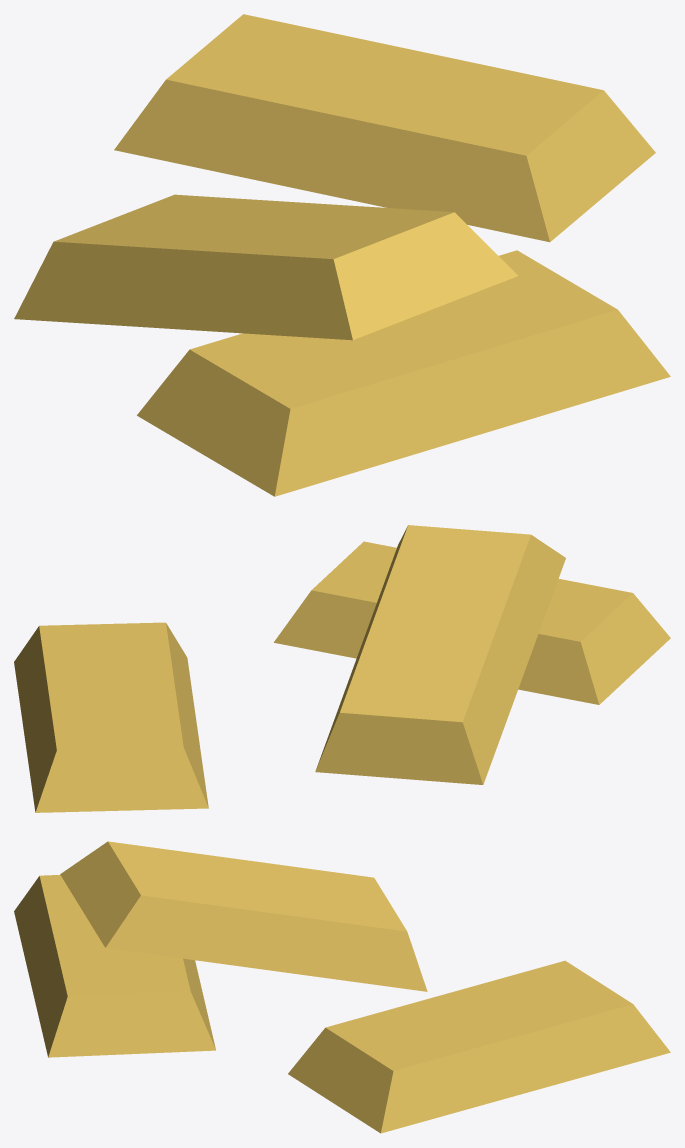
Rendered from gold_treasure_v4.gltf.
3 views of the same model, one above another, from view 1: azimuth 30°, elevation 25°; view 2: azimuth 150°, elevation 25°; view 3: azimuth 270°, elevation 25° (orthographic). The views are drawn at different scales.
Visible parts, largest first — view 1: GoldTreasureV4; view 2: GoldTreasureV4; view 3: GoldTreasureV4.
Boxes of the visible parts, x1=… form: GoldTreasureV4: x1=14, y1=14, x2=670, y2=496; GoldTreasureV4: x1=14, y1=525, x2=670, y2=812; GoldTreasureV4: x1=14, y1=841, x2=670, y2=1133.
Bounding box in the file's own units: 2.43 × 0.6233 × 2.94.
